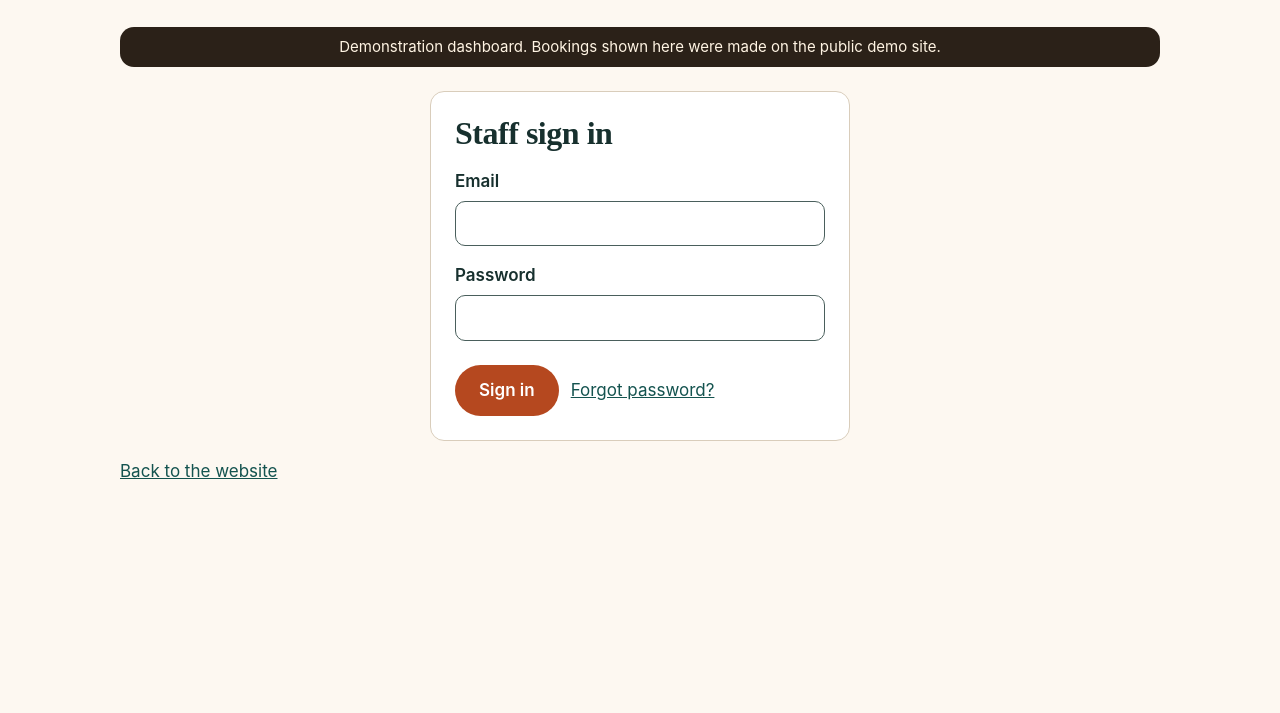
Scenario: StaffApp › signs in and shows metrics and bookings, sending the token on every request
In the field labelled "Email": (640, 224) x1=455 y1=201 x2=825 y2=246, type "maya@pawcare.example"
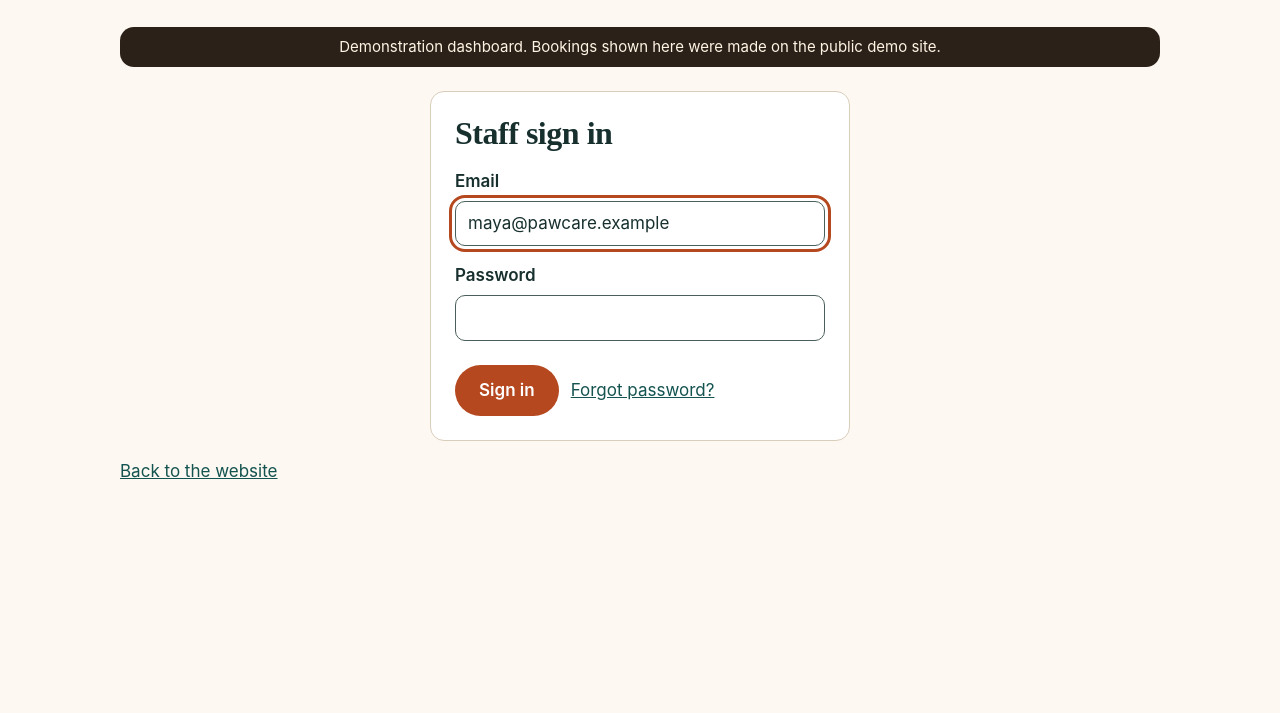
In the password field labelled "Password": (640, 318) x1=455 y1=295 x2=825 y2=341, type "correct-horse-battery"
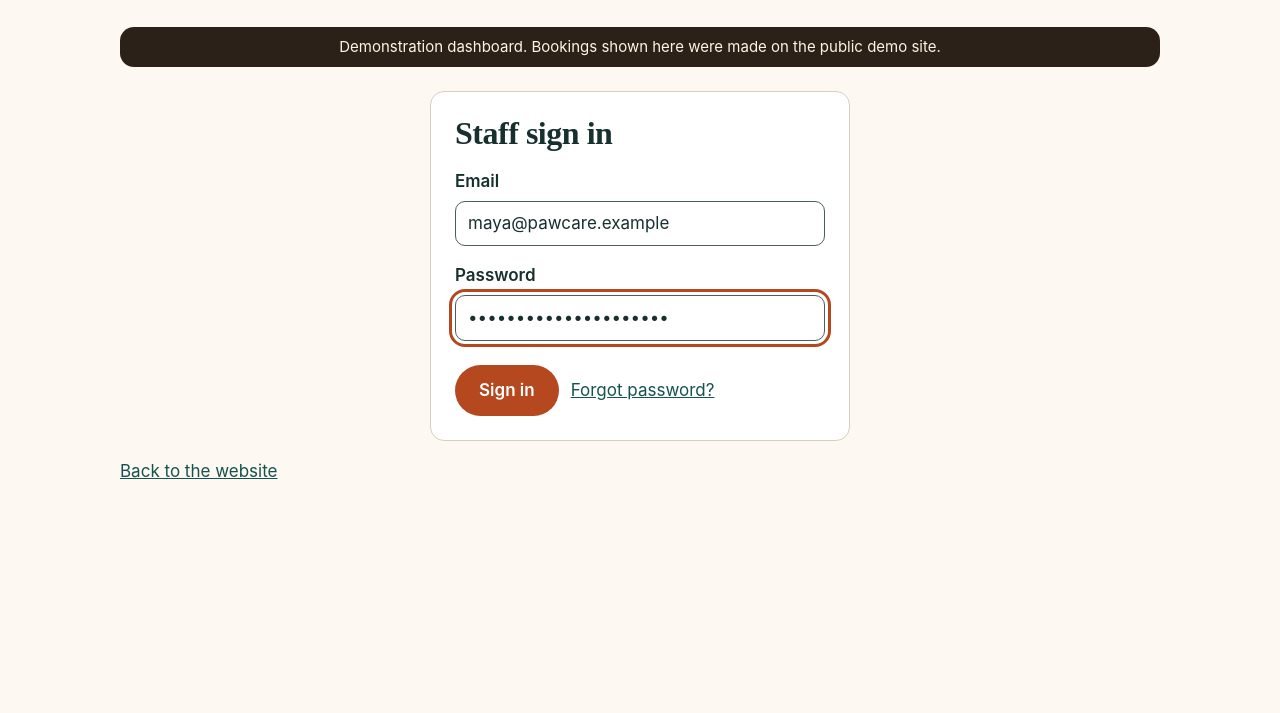
Click the button "Sign in": (507, 390) x1=455 y1=365 x2=559 y2=416
(page scrolled)
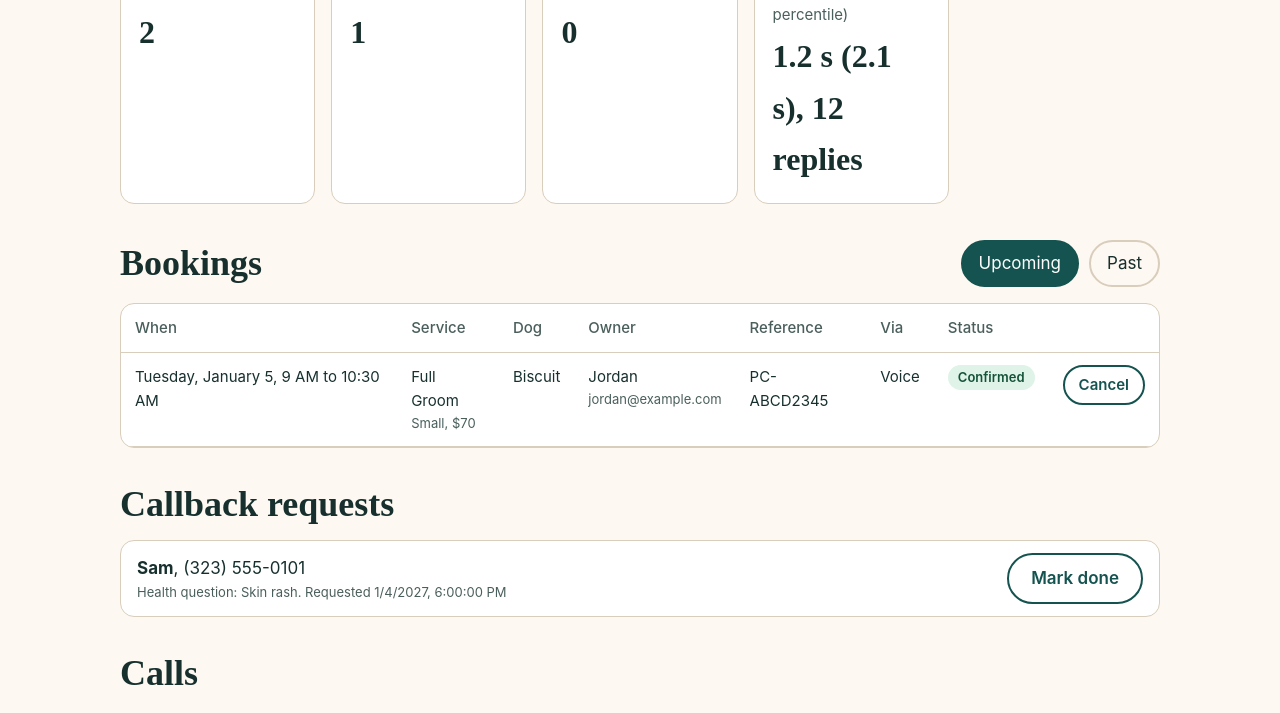
Now the text "PC-ABCD2345" is shown, box x1=736 y1=353 x2=866 y2=446
Now the text "jordan@example.com" is shown, box x1=588 y1=389 x2=722 y2=410
